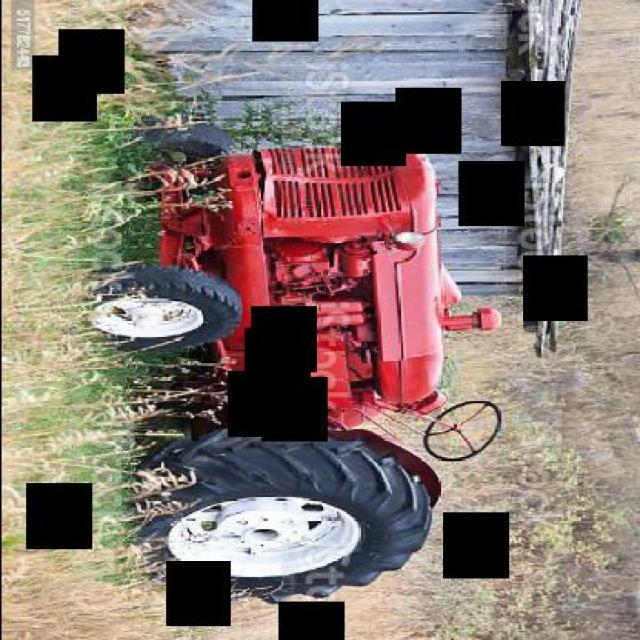Tratores - v5 YOLO V8L 2024-11-13: (26, 78, 506, 634)
